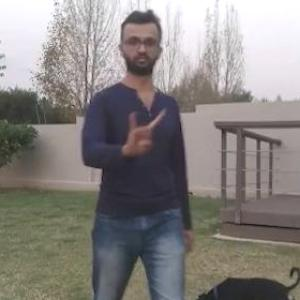takeoff-hand: (125, 105, 167, 155)
